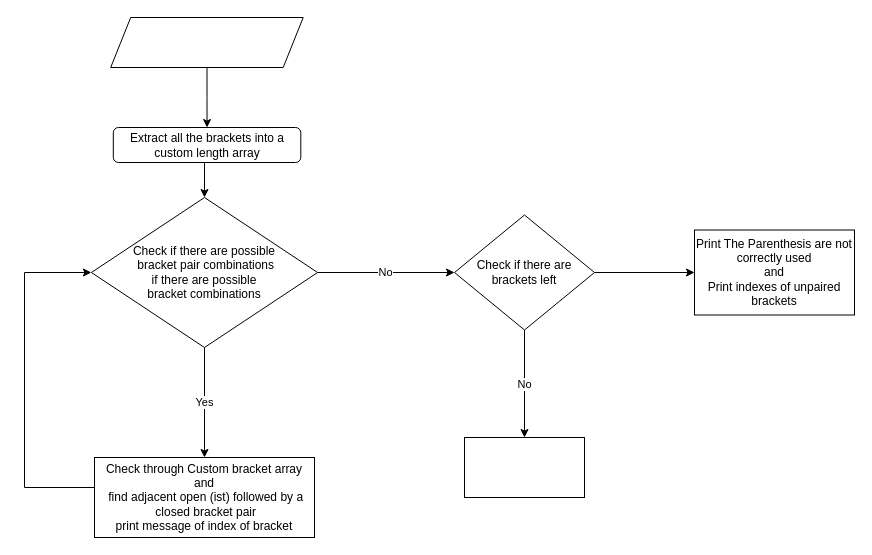
The diagram is 872 pixels wide and 555 high, and some of its shapes have lost their labels. The centre of each missing label's shape, as x and y in pixels:
"Print The Perenthesis are correctly used" goes at pixel 524 467.
"User enters an expression" goes at pixel 206 42.
